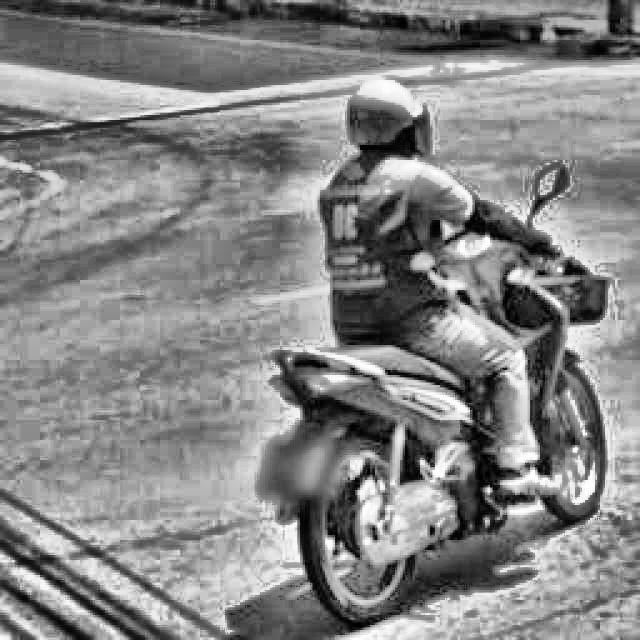motorcycle: (238, 165, 624, 608)
